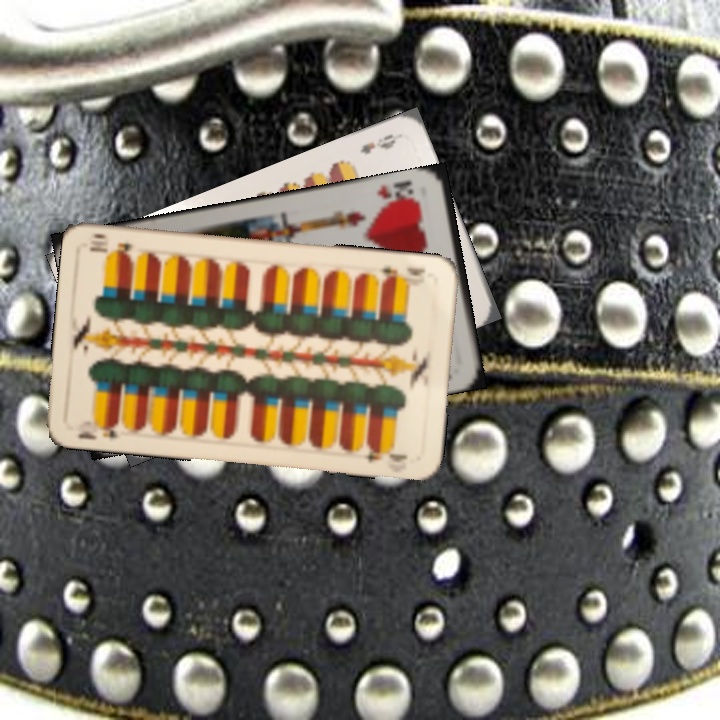E10: (74, 415, 122, 442), (378, 262, 428, 285)
E9: (356, 130, 399, 157)
HK: (373, 176, 423, 209)
